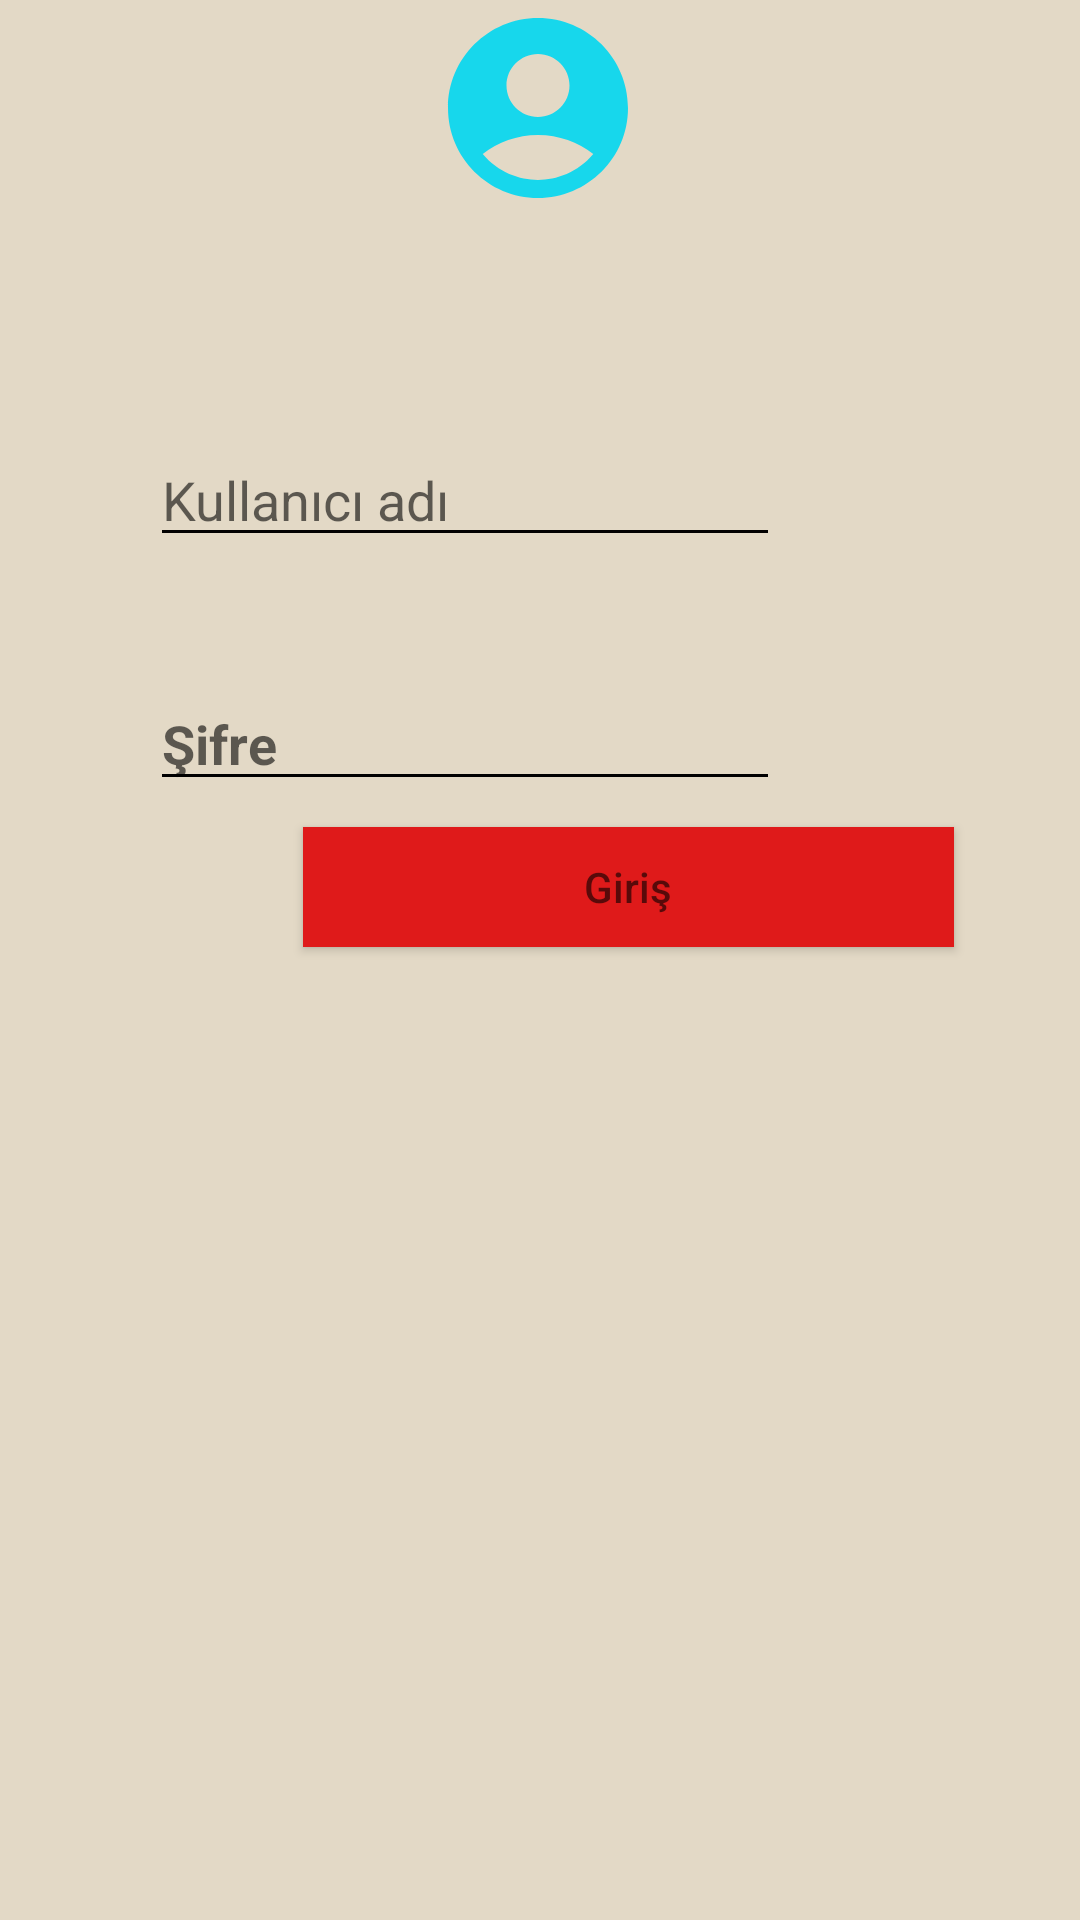

Icon click points for this 1080 x 1920 phone screenshot, format (x=x, y=y):
account circle: (x=538, y=108)
